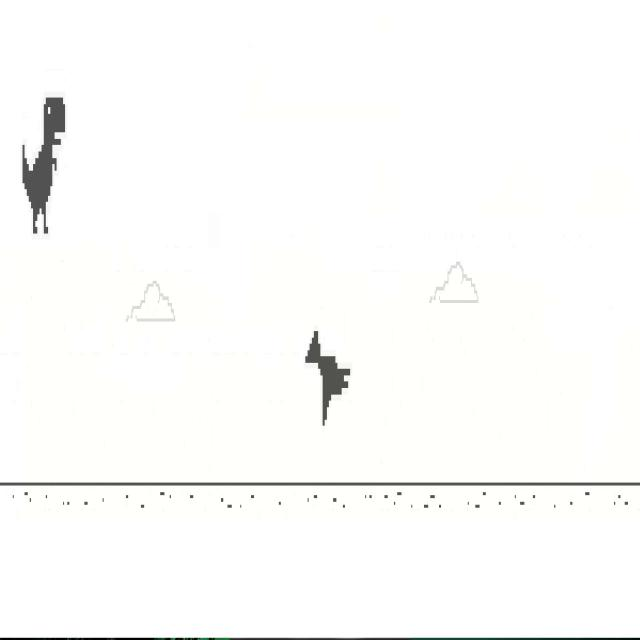dino: (23, 98, 66, 234)
ptero: (305, 330, 351, 425)
